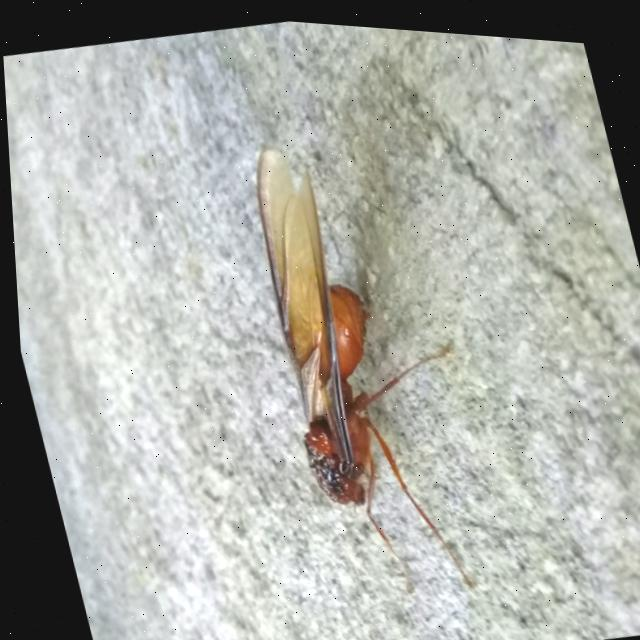Alive-Male-Alate: (227, 115, 509, 612)
